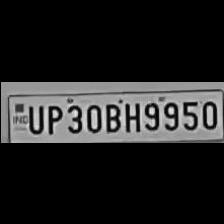0: (83, 101, 103, 133), (199, 97, 219, 129)
3: (64, 100, 82, 134)
5: (180, 96, 198, 130)
9: (160, 97, 180, 130), (140, 99, 160, 131)
B: (102, 100, 120, 132)
H: (120, 99, 140, 133)
P: (42, 101, 62, 135)
U: (25, 102, 43, 132)
